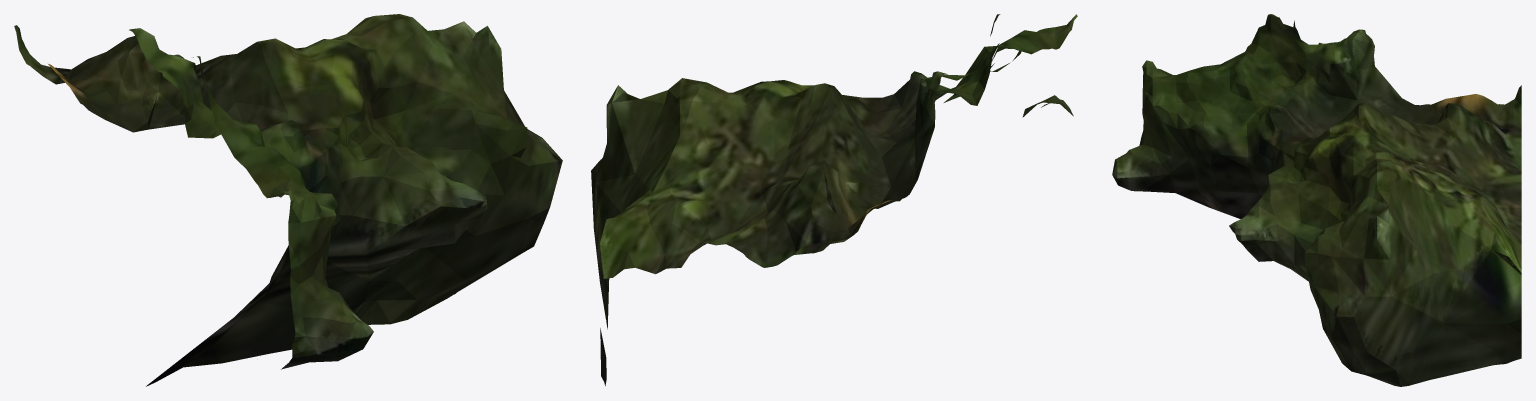
3 renders of one model, left to right at view 1: azimuth 30°, elevation 25°; view 2: azimuth 150°, elevation 25°; view 3: azimuth 270°, elevation 25°, orthographic. The views are drawn at different scales.
Size of the model in its own units: 0.6007 by 0.5074 by 0.7475.
Materials: 2 (2 with a texture image).
